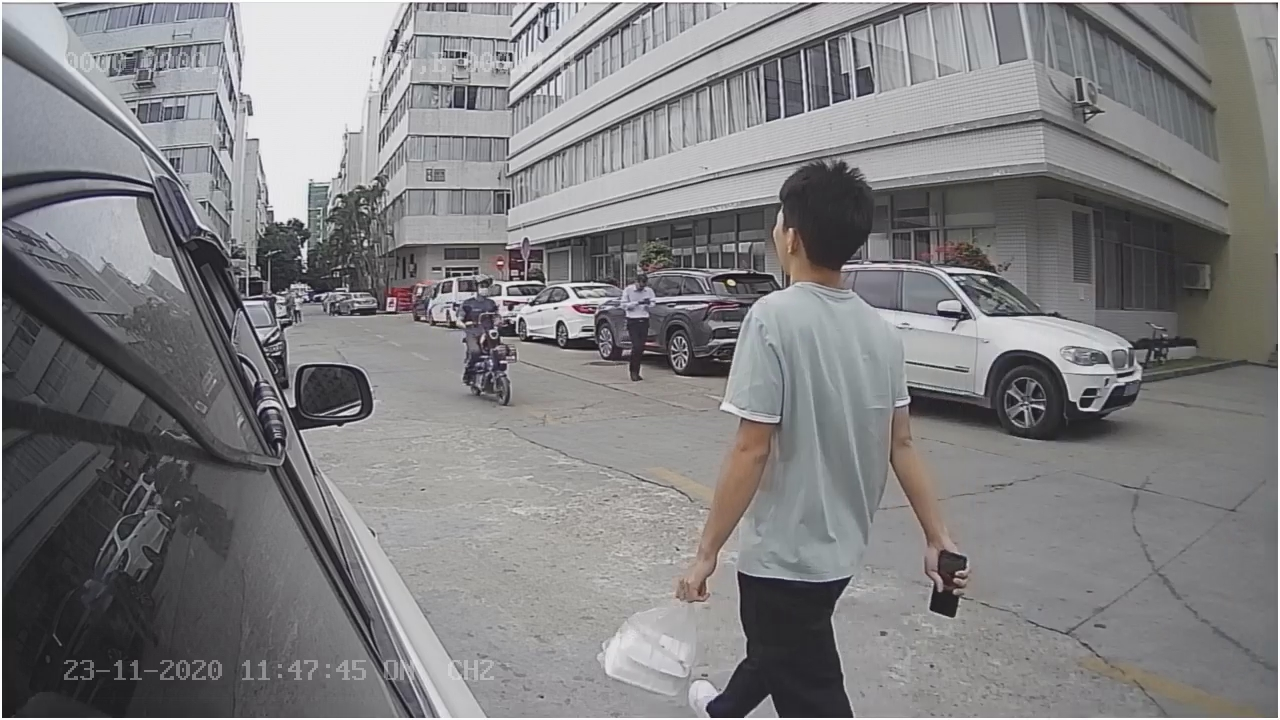person: (692, 130, 937, 511)
